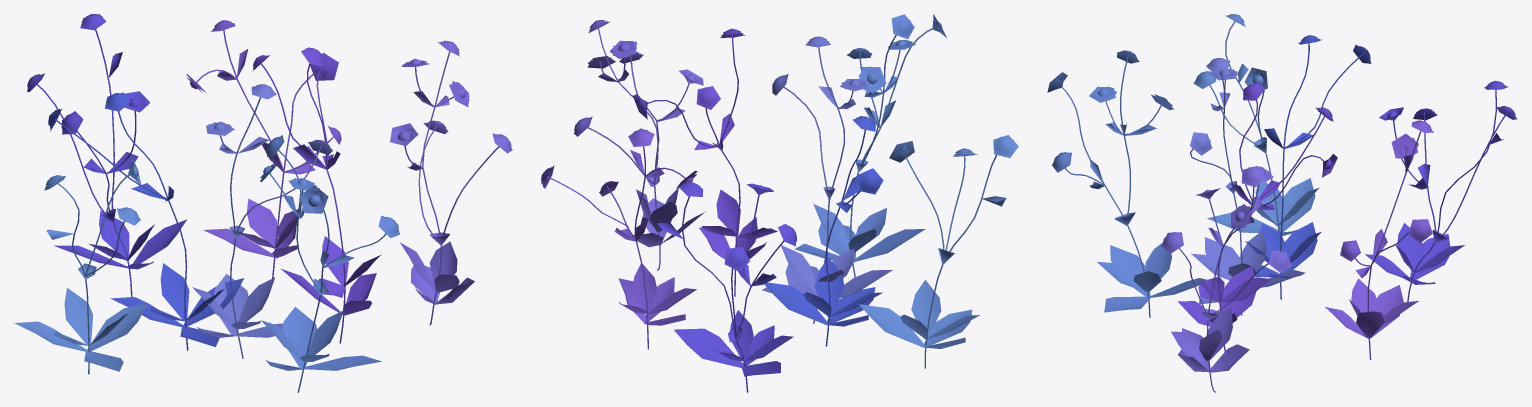
File: SM_FieldScabious_01.FBX
3 renders of one model, left to right at view 1: azimuth 30°, elevation 25°; view 2: azimuth 150°, elevation 25°; view 3: azimuth 270°, elevation 25°, orthographic. The views are drawn at different scales.
Parts seen in each view (by area): view 1: SM_FieldScabious_01_LOD0; view 2: SM_FieldScabious_01_LOD0; view 3: SM_FieldScabious_01_LOD0.
Boxes of the visible parts, x1,y1,x2,y2 form: SM_FieldScabious_01_LOD0: (14,14,512,392); SM_FieldScabious_01_LOD0: (541,14,1018,392); SM_FieldScabious_01_LOD0: (1047,14,1517,392).
Bounding box in the file's own units: 103 × 104 × 64.97.
